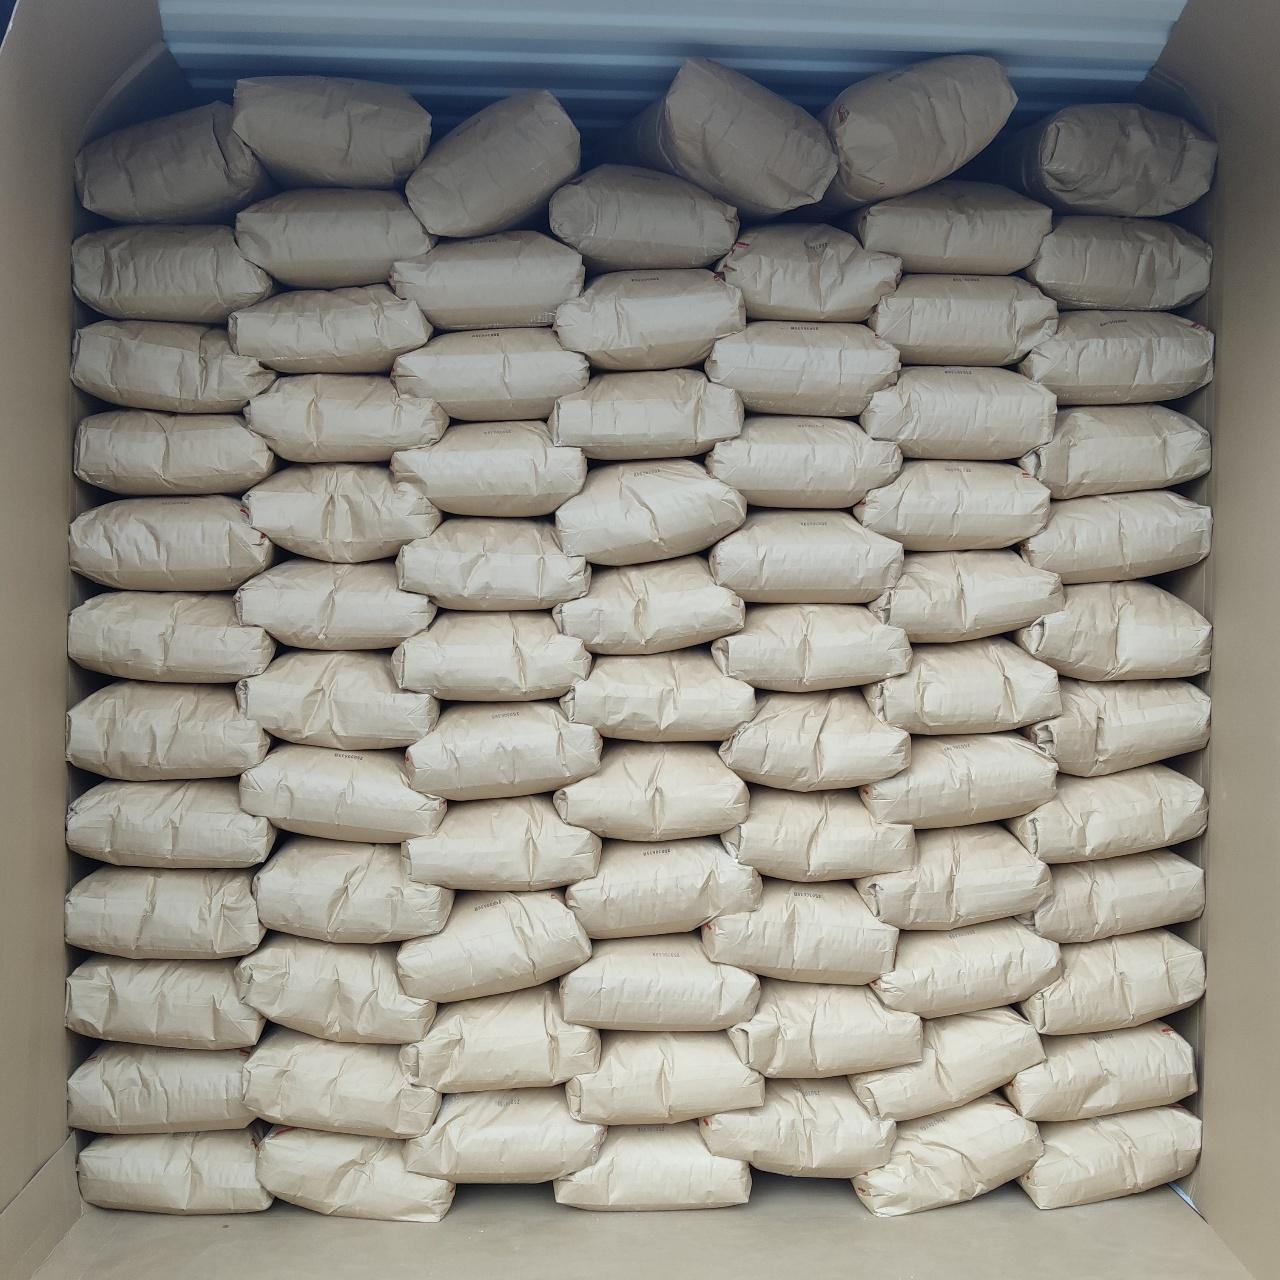sack: (629, 60, 836, 216), (821, 56, 1014, 206), (964, 104, 1214, 215), (408, 96, 578, 236), (79, 102, 274, 222), (855, 1094, 1039, 1214), (402, 983, 598, 1092), (850, 1008, 1042, 1118), (254, 836, 452, 942), (238, 934, 434, 1042), (244, 1026, 438, 1133), (236, 79, 430, 184), (400, 892, 590, 998), (240, 744, 445, 842), (550, 164, 736, 270), (556, 459, 742, 564), (704, 880, 894, 982), (1008, 764, 1206, 862), (238, 652, 438, 748), (74, 226, 274, 322), (858, 824, 1046, 926), (560, 934, 758, 1030), (1022, 930, 1204, 1034), (236, 190, 433, 286), (68, 682, 268, 776), (700, 1078, 894, 1175), (70, 498, 274, 590), (1014, 583, 1210, 678), (406, 1088, 604, 1182), (722, 690, 908, 790), (864, 638, 1056, 734), (408, 702, 598, 798), (728, 980, 918, 1076), (1006, 1022, 1196, 1118), (568, 838, 758, 934), (556, 742, 745, 838), (68, 592, 274, 680), (872, 918, 1060, 1014), (554, 556, 742, 652), (1017, 312, 1212, 404), (392, 422, 586, 515), (68, 779, 275, 866), (850, 181, 1051, 270), (392, 232, 583, 326), (556, 270, 742, 366), (404, 796, 598, 888), (72, 322, 272, 411), (862, 734, 1054, 826), (68, 866, 263, 958), (392, 328, 588, 418), (1020, 1107, 1198, 1206), (230, 284, 430, 372), (1020, 490, 1210, 583), (706, 322, 898, 414), (246, 467, 438, 558), (561, 648, 754, 740), (706, 416, 900, 506), (258, 1128, 452, 1218), (860, 368, 1054, 458), (568, 1032, 762, 1122), (392, 612, 590, 700), (1024, 216, 1210, 309), (870, 550, 1062, 640), (722, 788, 914, 878), (710, 510, 903, 600), (68, 956, 263, 1046), (716, 224, 900, 318), (1024, 680, 1208, 774), (236, 560, 434, 646), (550, 370, 742, 458), (870, 274, 1054, 366), (1017, 406, 1208, 493), (712, 606, 910, 690), (399, 518, 588, 606), (1022, 850, 1201, 942), (246, 376, 445, 459), (855, 462, 1046, 549), (76, 410, 274, 493), (556, 1122, 750, 1206), (68, 1044, 254, 1132), (80, 1128, 270, 1212)
